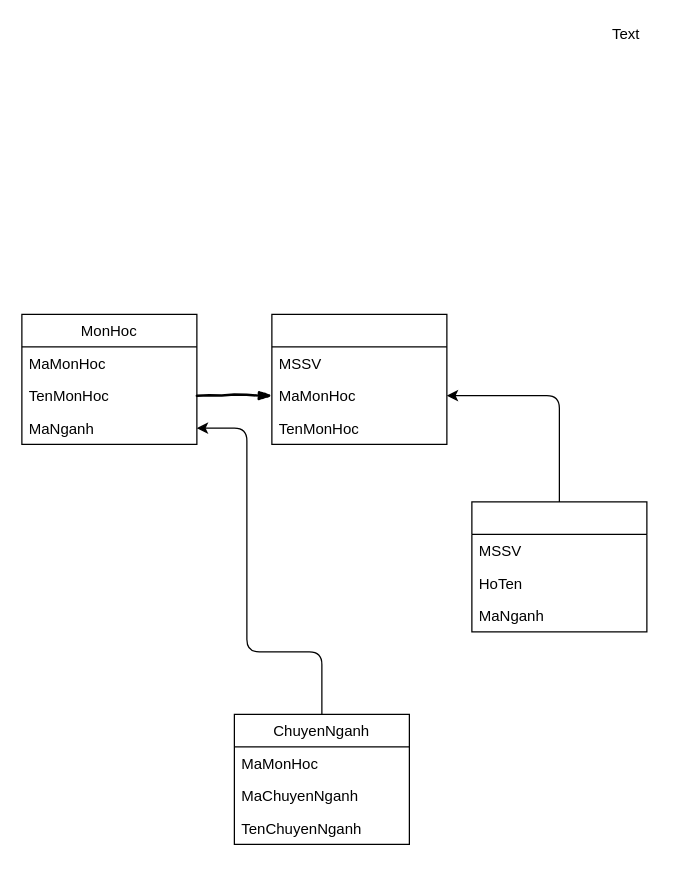
The diagram is 673 pixels wide and 869 high, and some of its shapes have lost their labels. The shapes that lost their labels are listed below. From the top down, each one's box as (x1, y1, x2, y2) in pixels, then its label:
(271, 313, 447, 444): ThongTinDangKy
(471, 501, 647, 632): SinhVien
